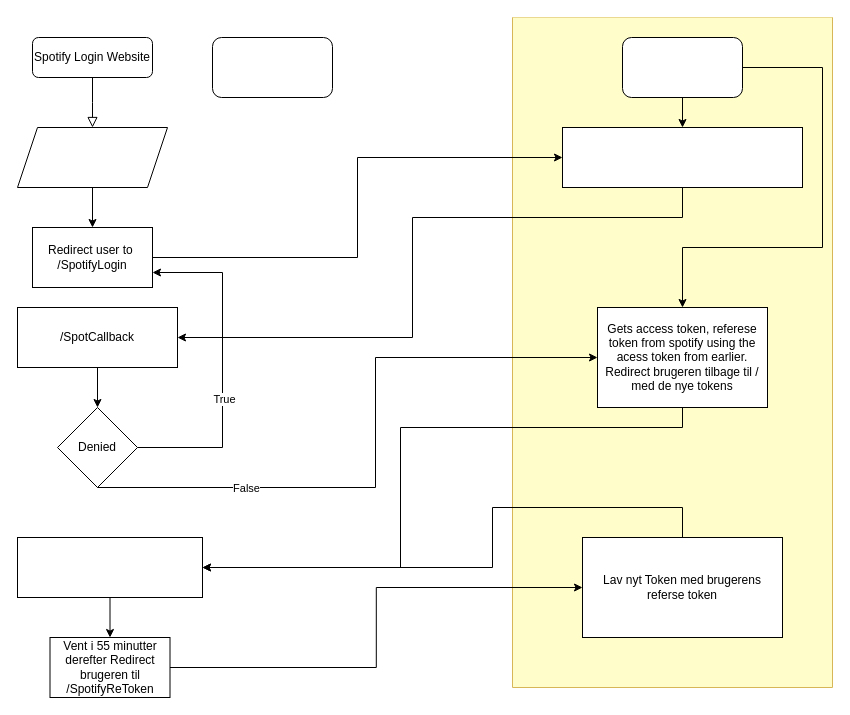
The diagram is 850 pixels wide and 715 high, and some of its shapes have lost their labels. The shapes that lost their labels are listed below. From the top down, each one's centre as x and y in pixels, then its label:
At point 682,67: "Start spotify login server".
At point 92,157: "User pressed login".
At point 682,157: "Redirdct user to https://accounts.spotify.com/authorize? with additinal data".
At point 109,567: "Spotify er logget ind!!!!!!".
